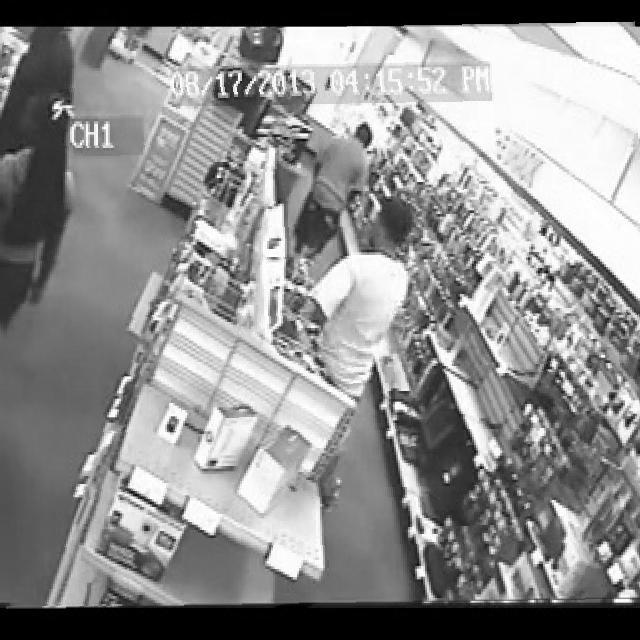normal: (0, 24, 640, 606)
